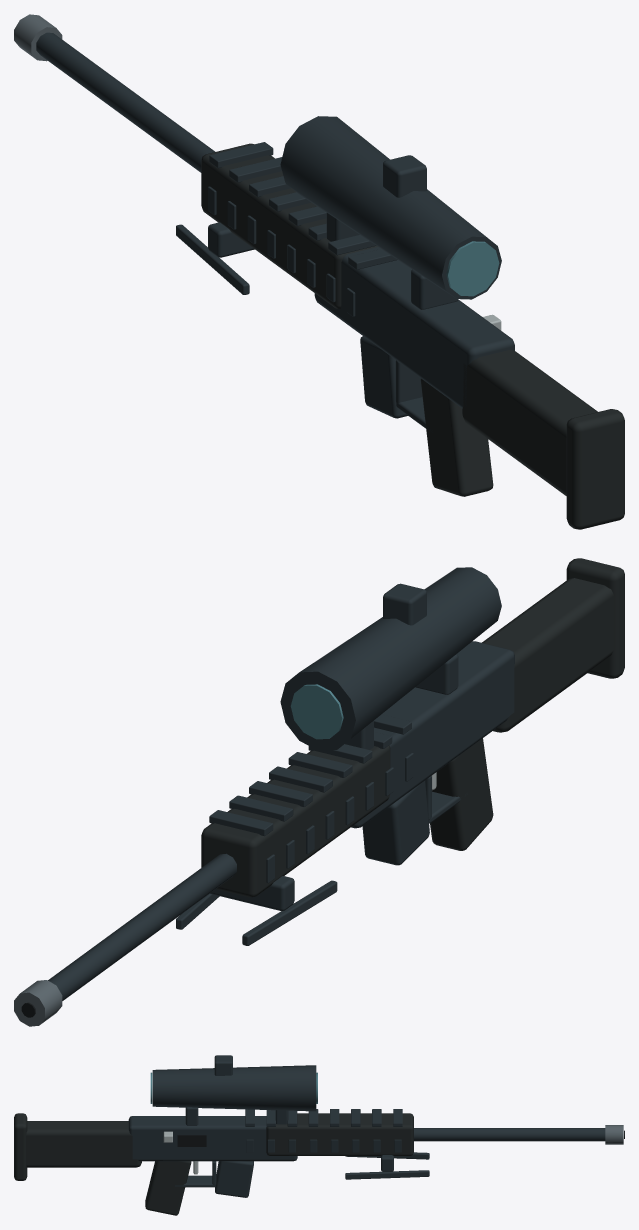
The model's file is street-sniper.glb.
3 renders of one model, top to bottom at view 1: azimuth 30°, elevation 25°; view 2: azimuth 150°, elevation 25°; view 3: azimuth 270°, elevation 25°, orthographic. The views are drawn at different scales.
Parts seen in each view (by area): view 1: sniper-frame-surface (×4); view 2: sniper-frame-surface (×4); view 3: sniper-frame-surface (×4).
Boxes of the visible parts, <box> form: sniper-frame-surface (×4): <box>14,14,624,529</box>; sniper-frame-surface (×4): <box>14,558,624,1026</box>; sniper-frame-surface (×4): <box>14,1055,624,1215</box>.
Size of the model in its own units: 0.1104 by 0.3218 by 1.16.
